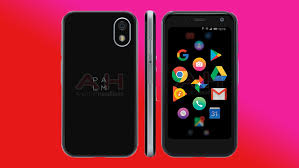mi: (59, 9, 141, 159), (158, 9, 240, 159)
